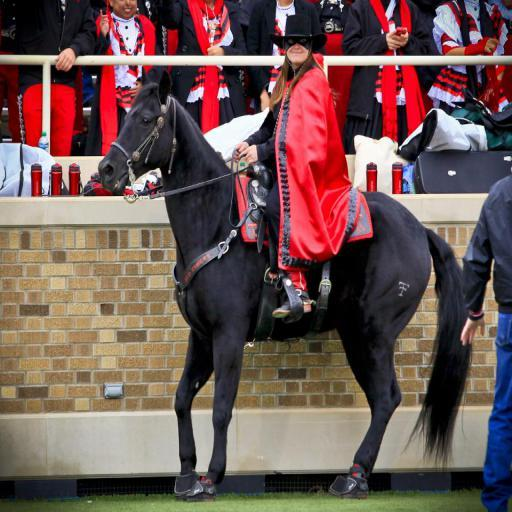Horse: (94, 63, 476, 500)
